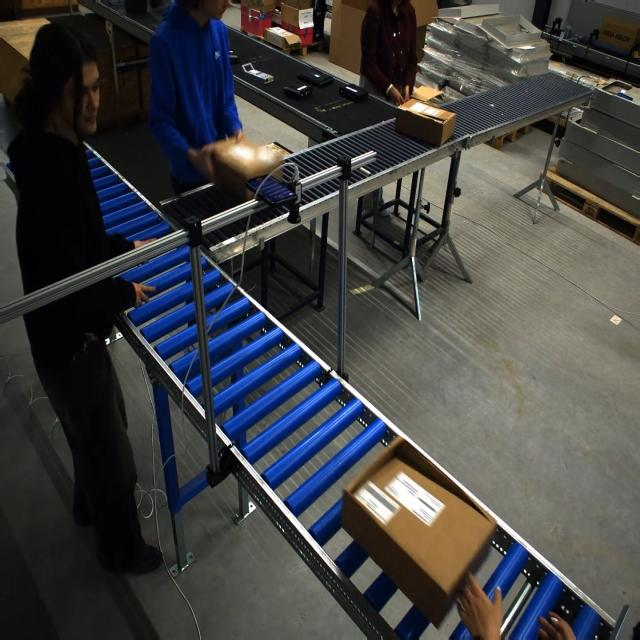box: (348, 445, 494, 629), (209, 134, 284, 199), (391, 88, 450, 148)
product: (236, 55, 272, 74), (296, 70, 332, 88), (315, 98, 353, 112), (339, 83, 365, 102), (283, 84, 312, 101), (228, 49, 239, 64)
